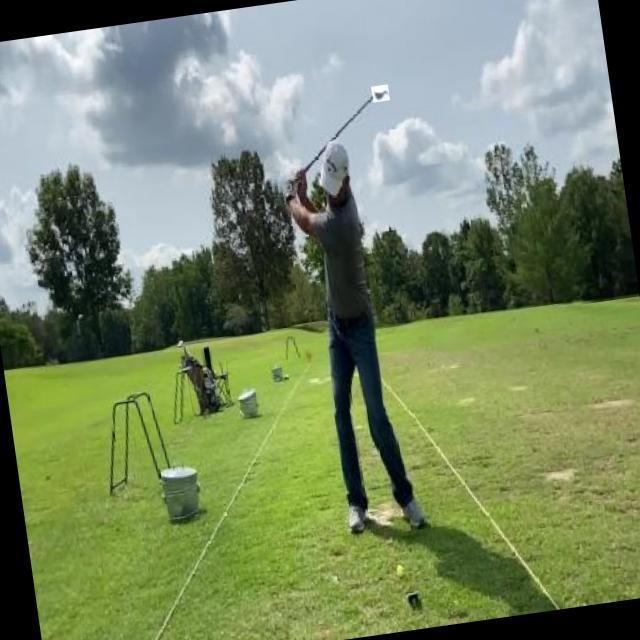club head: (371, 84, 390, 102)
